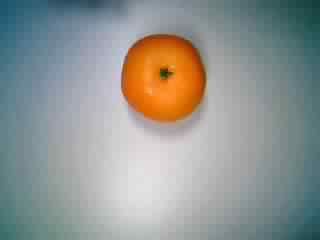orange: (118, 26, 215, 123)
